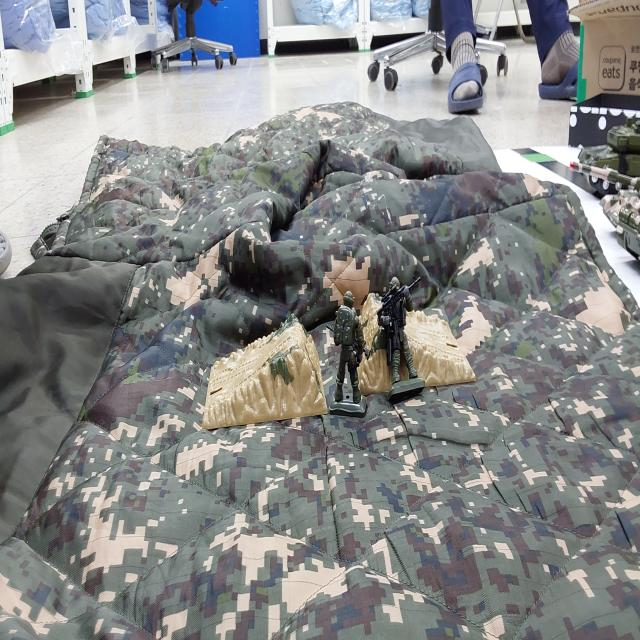enem: (377, 277, 424, 402), (329, 290, 370, 416)
